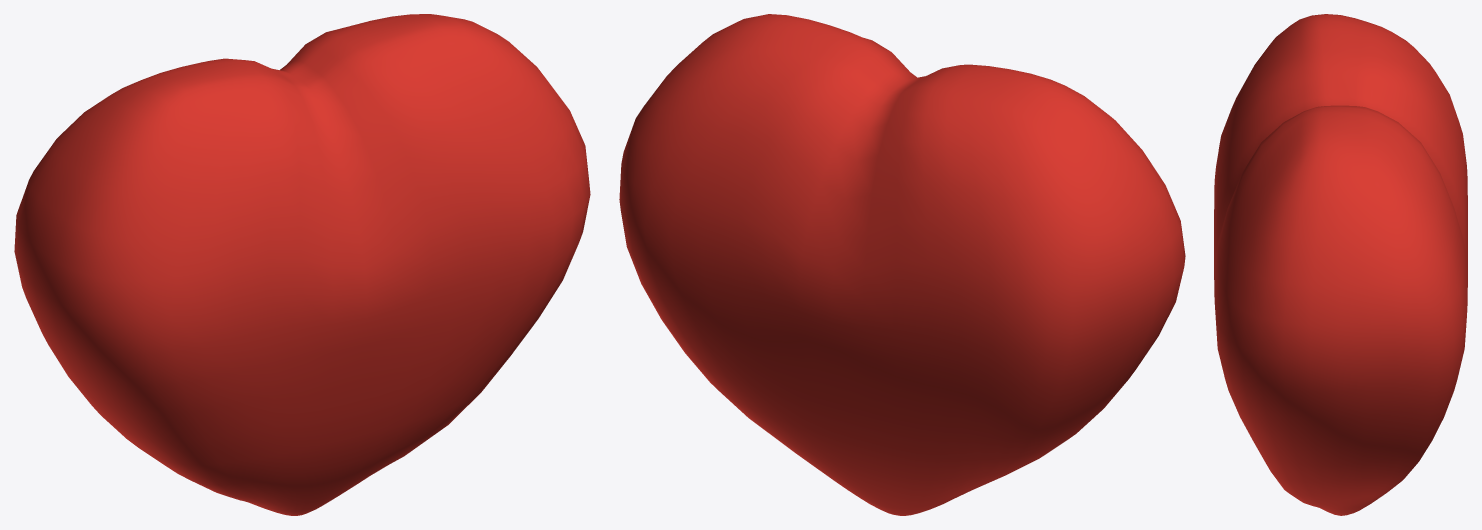
Rendered from 愛心軟糖.glb.
3 views of the same model, side by side, from view 1: azimuth 30°, elevation 25°; view 2: azimuth 150°, elevation 25°; view 3: azimuth 270°, elevation 25° (orthographic). The views are drawn at different scales.
Visible parts, largest first — view 1: Cube; view 2: Cube; view 3: Cube.
Boxes of the visible parts, <box> form: Cube: <box>14,14,590,515</box>; Cube: <box>619,14,1185,515</box>; Cube: <box>1214,14,1467,515</box>.
Bounding box in the file's own units: 2.12 × 1.79 × 0.9488.
